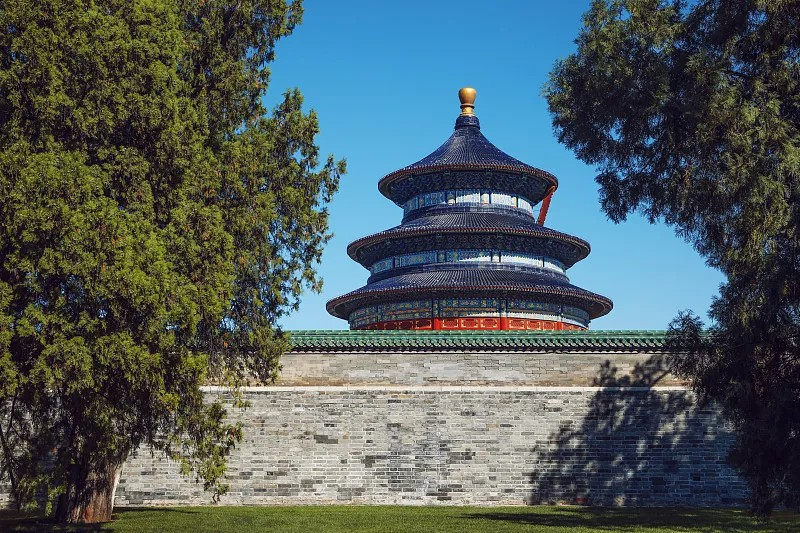Heaven: (325, 87, 614, 339)
